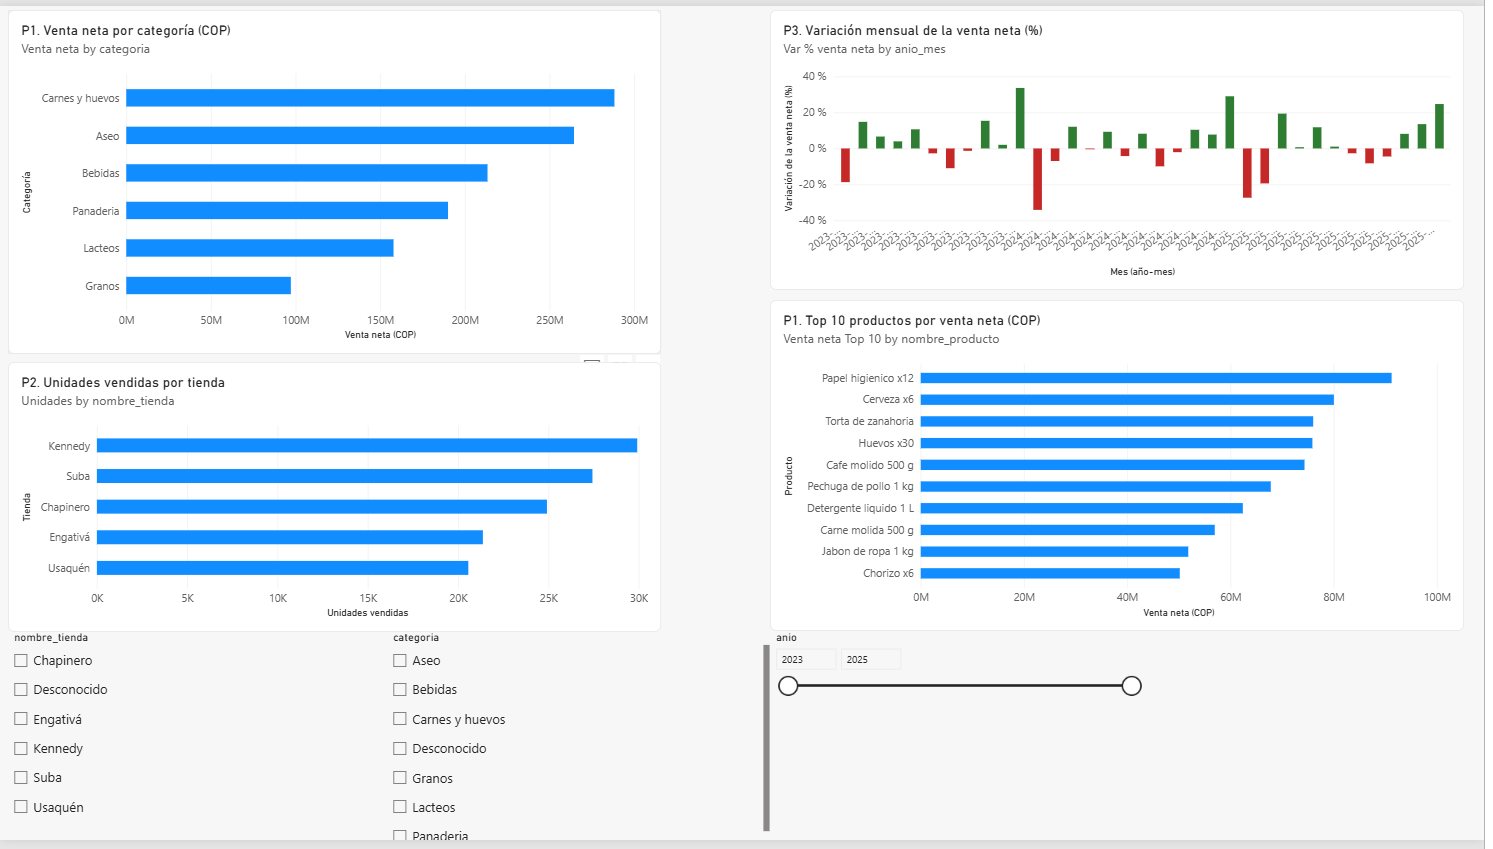

This screenshot's page, from the dashboard's own definition file:
{"tool":"powerbi","page":{"name":"Page 2","canvas":[1920,1080],"ordinal":1},"visuals":[{"type":"slicer","fields":{"Values":["dim_tienda.nombre_tienda"]},"box":[9.9,808.8,491.2,271.2],"z":0},{"type":"slicer","fields":{"Values":["dim_producto.categoria"]},"box":[501.1,808.8,494.5,271.2],"z":1},{"type":"slicer","fields":{"Values":["dim_fecha.anio"]},"box":[996,809,484,271],"z":2},{"type":"clusteredBarChart","title":"P1. Venta neta por categoría (COP)","fields":{"Category":["dim_producto.categoria"],"Y":["fact_ventas.Venta neta"]},"box":[9.9,5,845.1,444.9],"z":3},{"type":"clusteredBarChart","title":"P2. Unidades vendidas por tienda","fields":{"Category":["dim_tienda.nombre_tienda"],"Y":["fact_ventas.Unidades"]},"box":[10,460,845,349],"z":4},{"type":"clusteredColumnChart","title":"P3. Variación mensual de la venta neta (%)","fields":{"Category":["dim_fecha.anio_mes"],"Y":["fact_ventas.Var % venta neta"]},"box":[996.2,5.2,897.9,362.3],"z":5},{"type":"clusteredBarChart","title":"P1. Top 10 productos por venta neta (COP)","fields":{"Category":["dim_producto.nombre_producto"],"Y":["fact_ventas.Venta neta Top 10"]},"box":[996.2,380.4,897.9,428.2],"z":6}]}

Visuals, with their boxes in screenshot pixels (x1, y1, x2, y2), scaled from the page's 1920x1080 canvas onto the 1493x849 screenshot:
slicer - dim_tienda.nombre_tienda: 8,636,390,848
slicer - dim_producto.categoria: 390,636,774,848
slicer - dim_fecha.anio: 774,636,1151,848
"P1. Venta neta por categoría (COP)" clusteredBarChart: 8,4,665,354
"P2. Unidades vendidas por tienda" clusteredBarChart: 8,362,665,636
"P3. Variación mensual de la venta neta (%)" clusteredColumnChart: 775,4,1473,289
"P1. Top 10 productos por venta neta (COP)" clusteredBarChart: 775,299,1473,636
